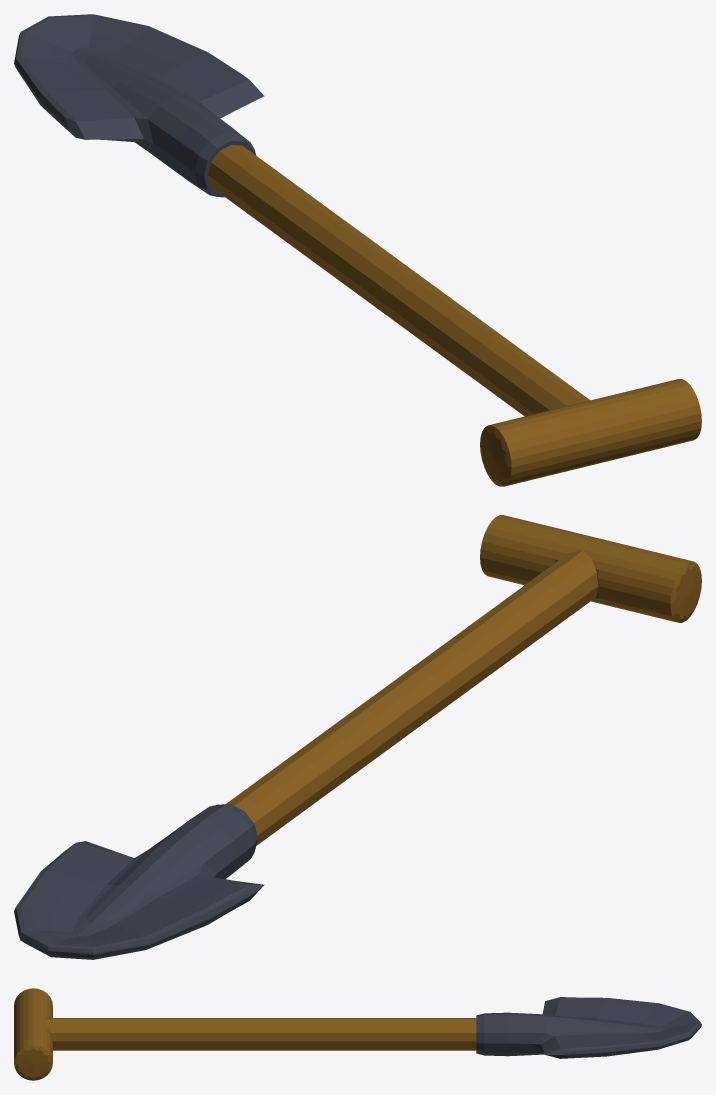
The model's file is PALA para uripepa.fbx.
3 renders of one model, top to bottom at view 1: azimuth 30°, elevation 25°; view 2: azimuth 150°, elevation 25°; view 3: azimuth 270°, elevation 25°, orthographic. The views are drawn at different scales.
Visible parts, largest first — view 1: Circle.001; view 2: Circle.001; view 3: Circle.001.
Boxes of the visible parts, x1=… form: Circle.001: x1=14, y1=14, x2=701, y2=486; Circle.001: x1=14, y1=515, x2=701, y2=959; Circle.001: x1=14, y1=988, x2=701, y2=1080.
Size of the model in its own units: 54.12 by 17.09 by 267.
